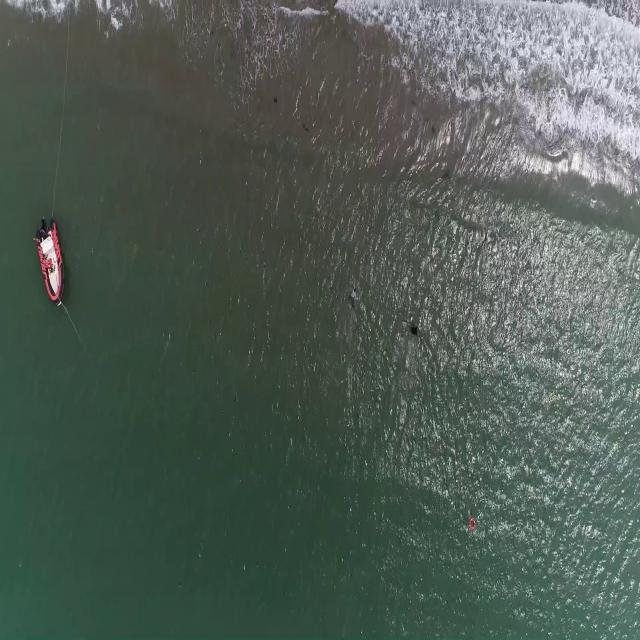boat: (34, 216, 64, 305)
life_buoy: (469, 515, 477, 530)
person: (349, 282, 362, 310), (410, 318, 419, 338)
